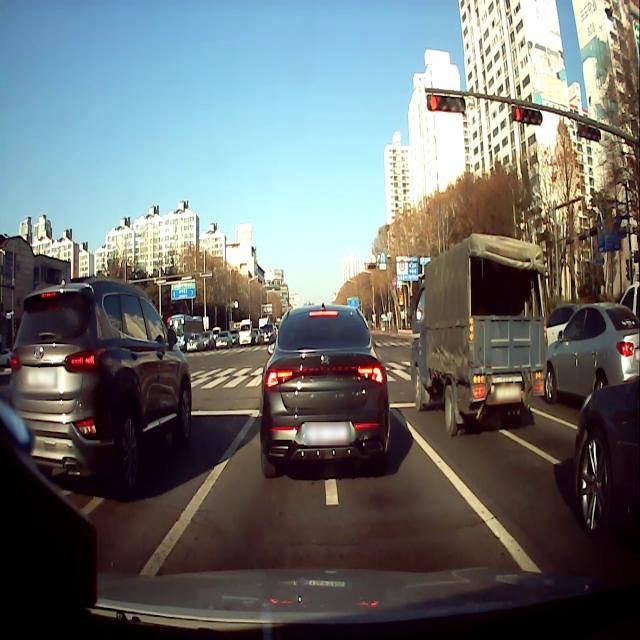Red Light: (428, 94, 439, 114), (514, 106, 522, 122)
